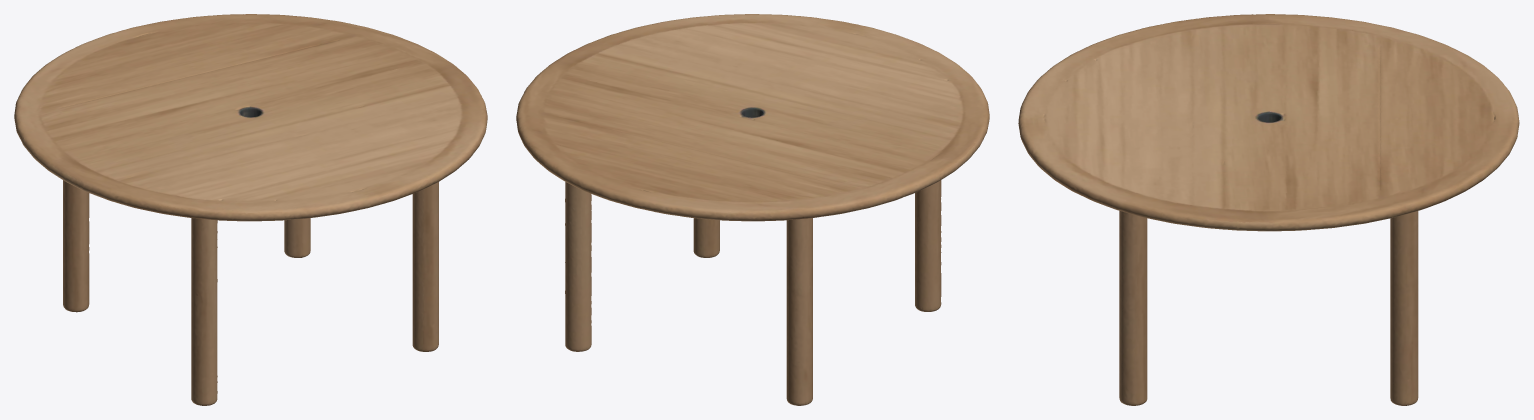
The model's file is king-bed.glb.
The picture shows the model from 3 angles, left to right: view 1: azimuth 30°, elevation 25°; view 2: azimuth 150°, elevation 25°; view 3: azimuth 270°, elevation 25°; orthographic projection. The views are drawn at different scales.
Parts seen in each view (by area): view 1: world; view 2: world; view 3: world.
Boxes of the visible parts, x1=… form: world: x1=14, y1=14, x2=487, y2=405; world: x1=516, y1=14, x2=989, y2=405; world: x1=1018, y1=14, x2=1519, y2=405.
Bounding box in the file's own units: 0.9967 × 0.504 × 1.
1 material, 1 textured.
